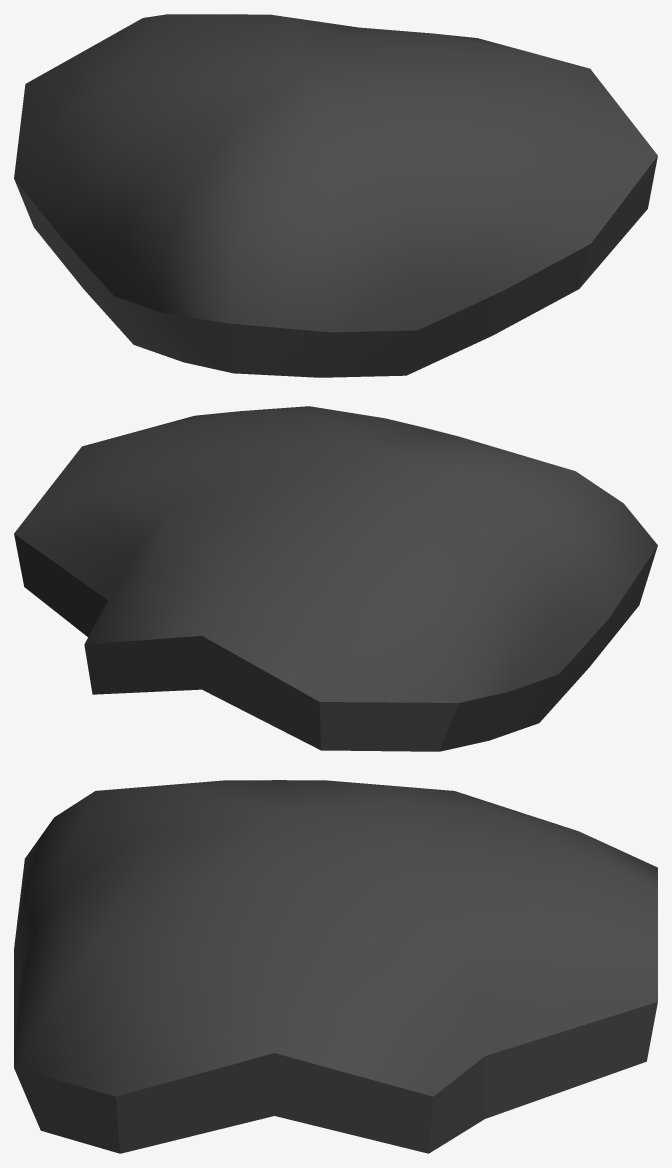
File: SM_House_Roof_Cap_03.obj
3 renders of one model, top to bottom at view 1: azimuth 30°, elevation 25°; view 2: azimuth 150°, elevation 25°; view 3: azimuth 270°, elevation 25°, orthographic. The views are drawn at different scales.
Parts seen in each view (by area): view 1: SM_House_Roof_Cap_03_mat_HouseRoof_01; view 2: SM_House_Roof_Cap_03_mat_HouseRoof_01; view 3: SM_House_Roof_Cap_03_mat_HouseRoof_01.
Boxes of the visible parts, left/top/right/bottom form: SM_House_Roof_Cap_03_mat_HouseRoof_01: left=14, top=14, right=657, bottom=377; SM_House_Roof_Cap_03_mat_HouseRoof_01: left=14, top=406, right=657, bottom=751; SM_House_Roof_Cap_03_mat_HouseRoof_01: left=14, top=780, right=657, bottom=1153.
Bounding box in the file's own units: 0.6011 × 0.2799 × 0.6011.
1 material, 1 textured.
